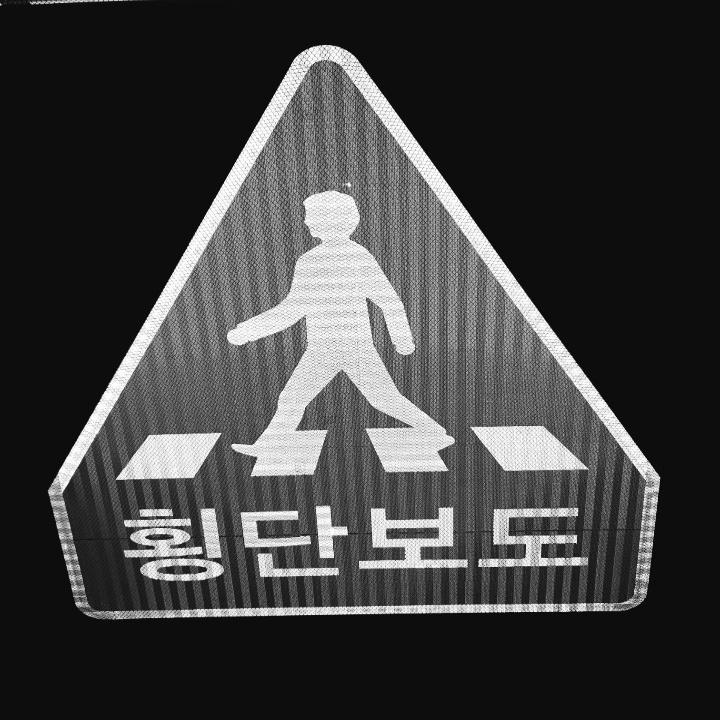cross: (101, 161, 588, 498)
